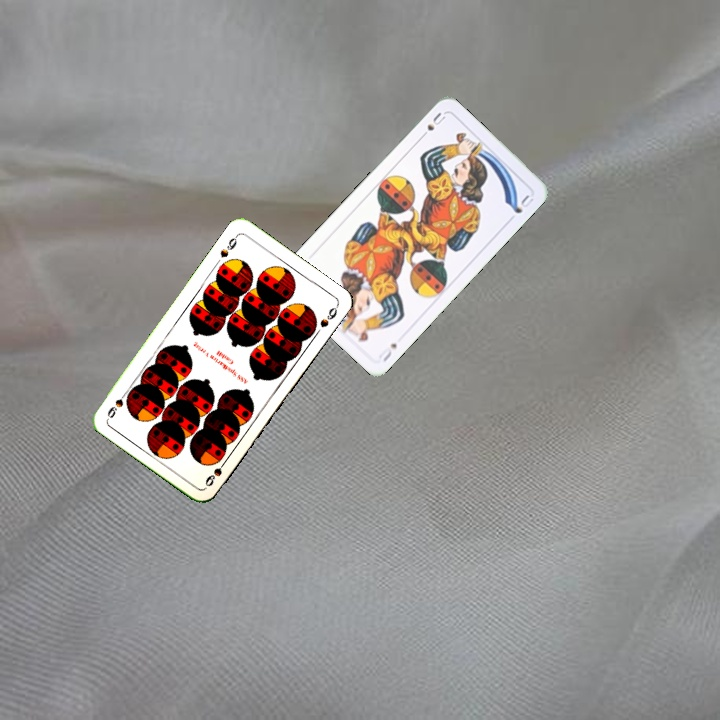S9: (201, 453, 230, 489), (216, 230, 241, 260)
SU: (415, 108, 448, 142), (374, 339, 400, 364)
